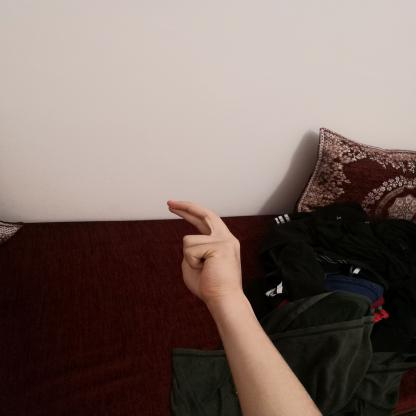ZAY: (158, 192, 252, 306)
